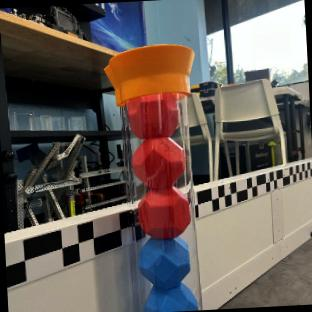Loader: (104, 43, 203, 312)
V5_BLUE: (137, 233, 189, 286), (144, 283, 197, 312)
V5_RED: (132, 136, 184, 192), (138, 186, 190, 238), (126, 91, 183, 138)
